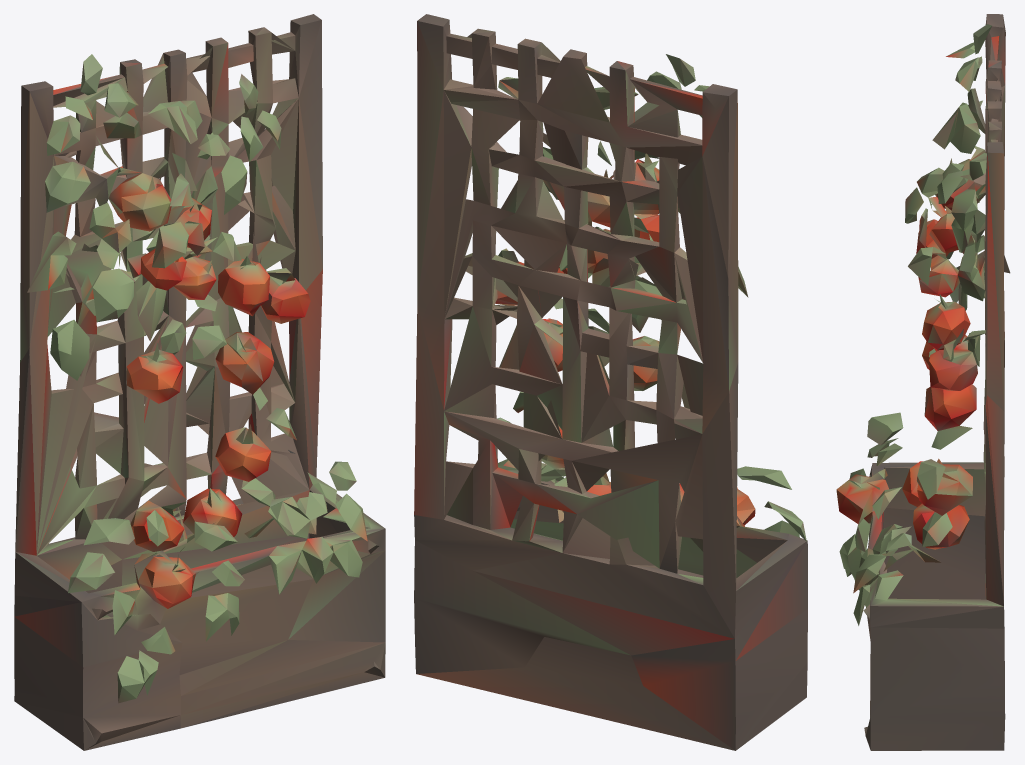
Rendered from trellis.glb.
3 views of the same model, side by side, from view 1: azimuth 30°, elevation 25°; view 2: azimuth 150°, elevation 25°; view 3: azimuth 270°, elevation 25° (orthographic). The views are drawn at different scales.
Parts seen in each view (by area): view 1: geometry_0; view 2: geometry_0; view 3: geometry_0.
Boxes of the visible parts, bbox=[...] form: geometry_0: bbox=[14, 14, 385, 750]; geometry_0: bbox=[414, 14, 807, 750]; geometry_0: bbox=[836, 14, 1010, 750].
Size of the model in its own units: 0.7649 by 1.5 by 0.3836.
